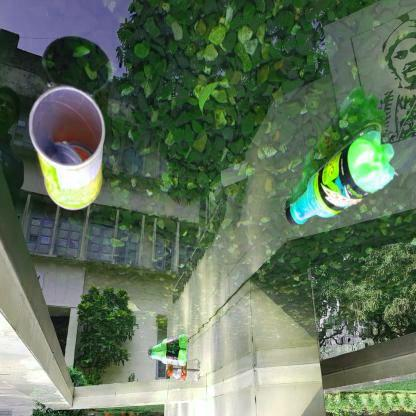Plastic: (283, 126, 397, 228), (27, 84, 105, 210)
Trash: (147, 344, 188, 367), (166, 366, 202, 383)
